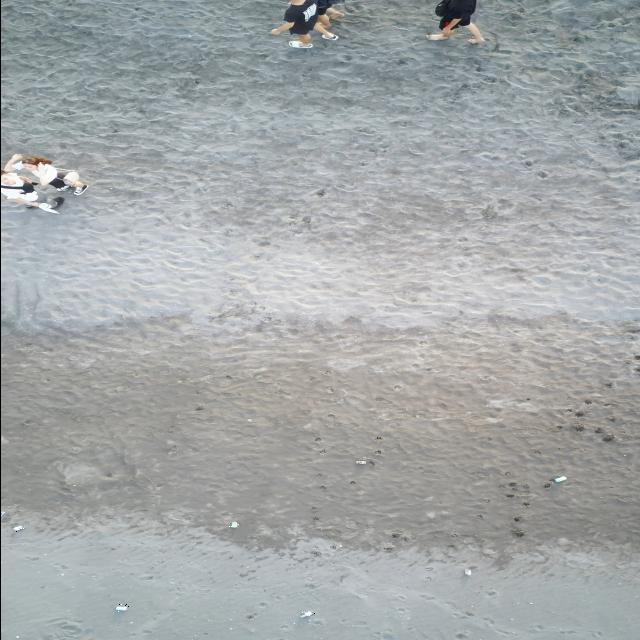Garbage: (356, 456, 373, 464), (553, 475, 567, 483), (300, 609, 313, 617), (115, 603, 128, 611), (12, 524, 23, 532), (227, 520, 239, 527), (356, 457, 367, 464), (602, 433, 612, 440), (464, 567, 471, 575), (0, 511, 5, 519), (544, 482, 549, 487)
